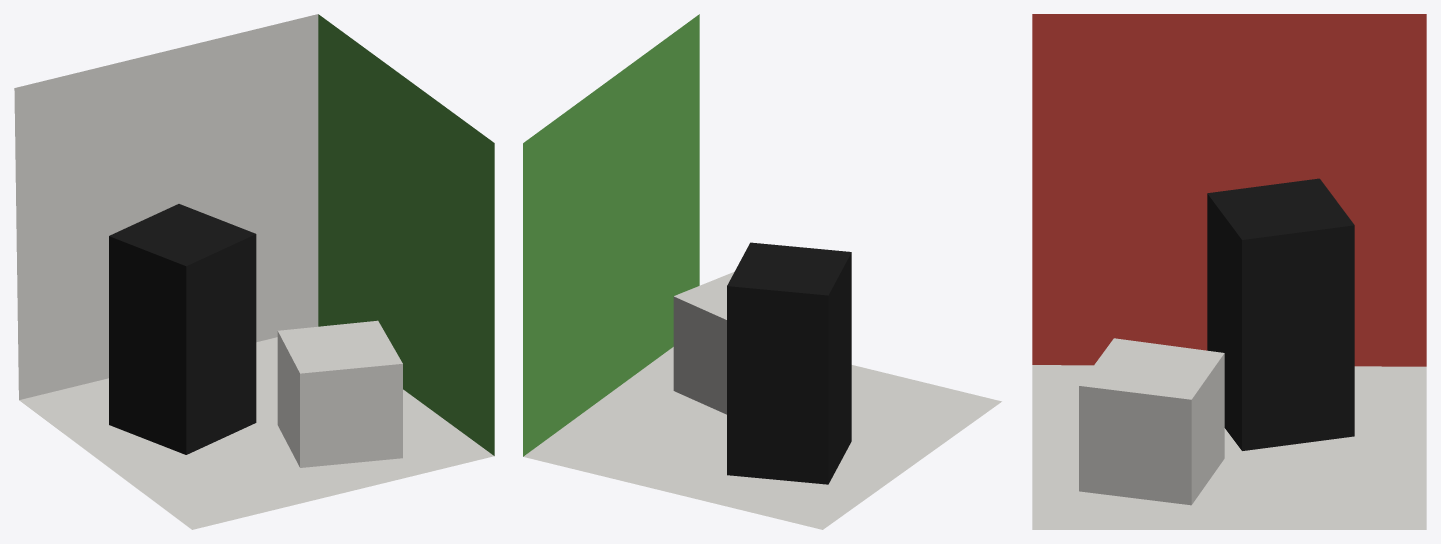
The model's file is CornellBox.glb.
3 renders of one model, left to right at view 1: azimuth 30°, elevation 25°; view 2: azimuth 150°, elevation 25°; view 3: azimuth 270°, elevation 25°, orthographic. The views are drawn at different scales.
Parts seen in each view (by area): view 1: CornellBox; view 2: CornellBox; view 3: CornellBox.
Part boxes in pixels (x1,y1,x2,y2): CornellBox: [14, 14, 494, 529]; CornellBox: [523, 14, 1001, 529]; CornellBox: [1032, 14, 1426, 529].
Bounding box in the file's own units: 2.02 × 1.99 × 2.03.
